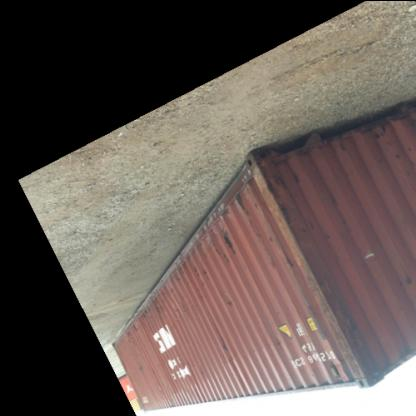Damage: (304, 270, 376, 380), (257, 154, 305, 226), (120, 296, 168, 348), (318, 189, 350, 247), (169, 255, 215, 293), (265, 232, 297, 272), (358, 121, 393, 151), (313, 136, 349, 162), (256, 334, 285, 360), (228, 194, 250, 222), (392, 270, 413, 296), (217, 233, 236, 261), (218, 336, 231, 360), (221, 294, 239, 310), (128, 366, 146, 382)
